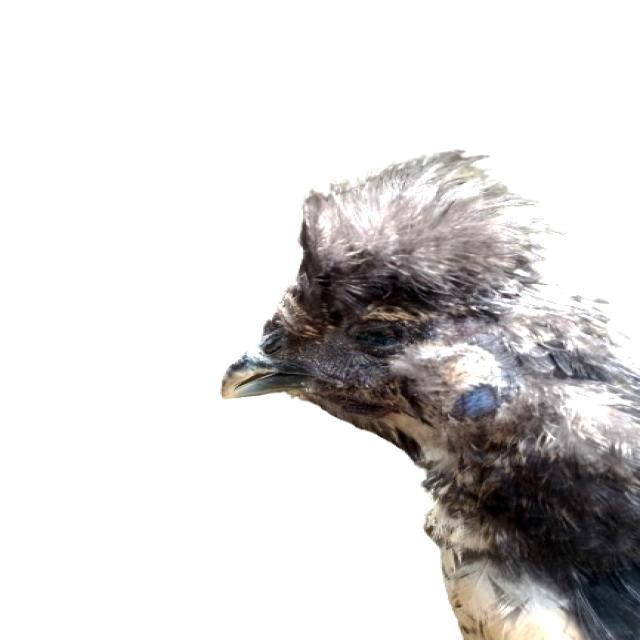Coryza: (316, 288, 446, 379)
